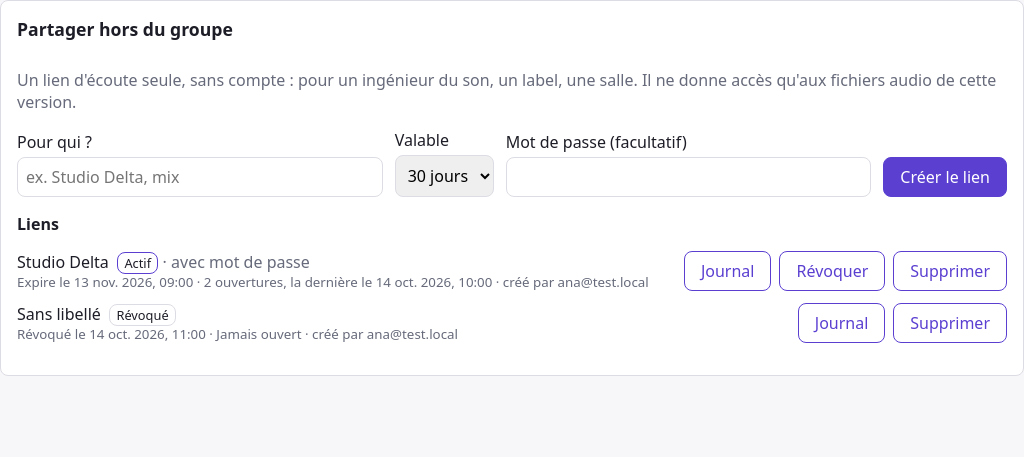
ShareLinksPanel › ouvre le journal du lien
This screenshot has width=1024, height=457.
Click the button "Journal" in the row of "Studio Delta" at {"x": 728, "y": 271}, box left=684, top=251, right=771, bottom=291
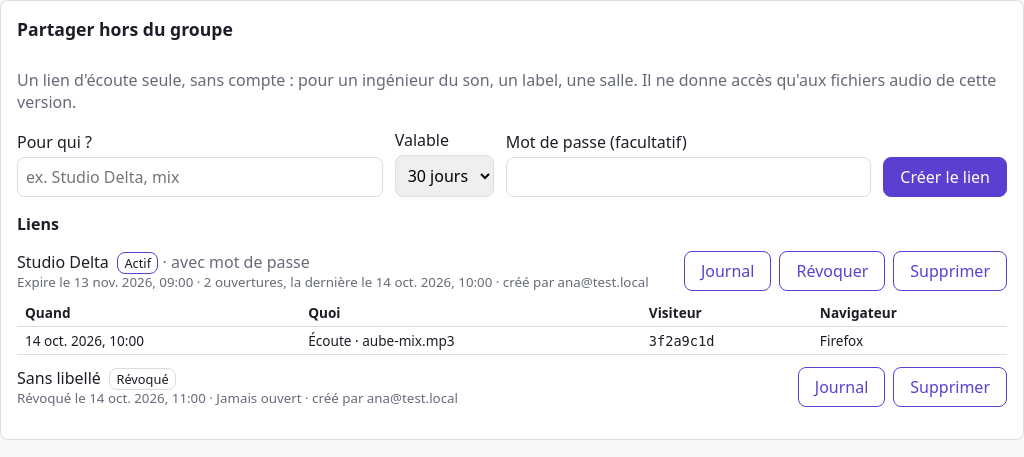
Expected: the element with test id "share-journal" shows "Écoute · aube-mix.mp3", left=17, top=299, right=1007, bottom=355
Expected: the element with test id "share-journal" shows "3f2a9c1d", left=649, top=333, right=714, bottom=349
